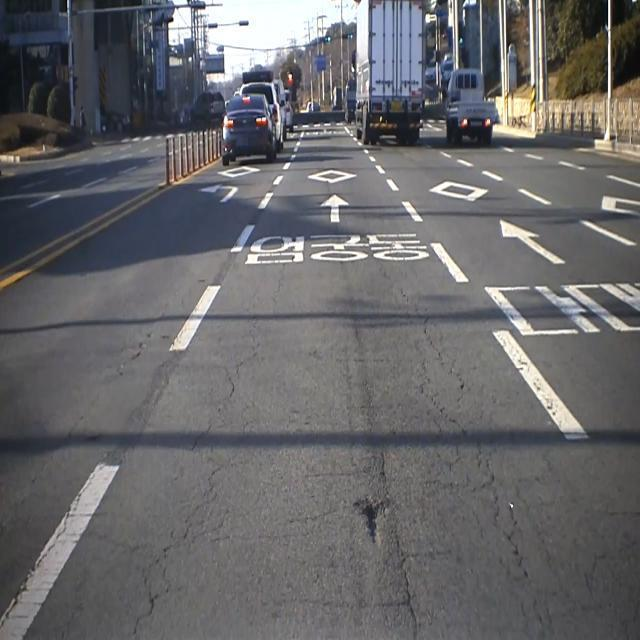pothole: (347, 489, 403, 556)
